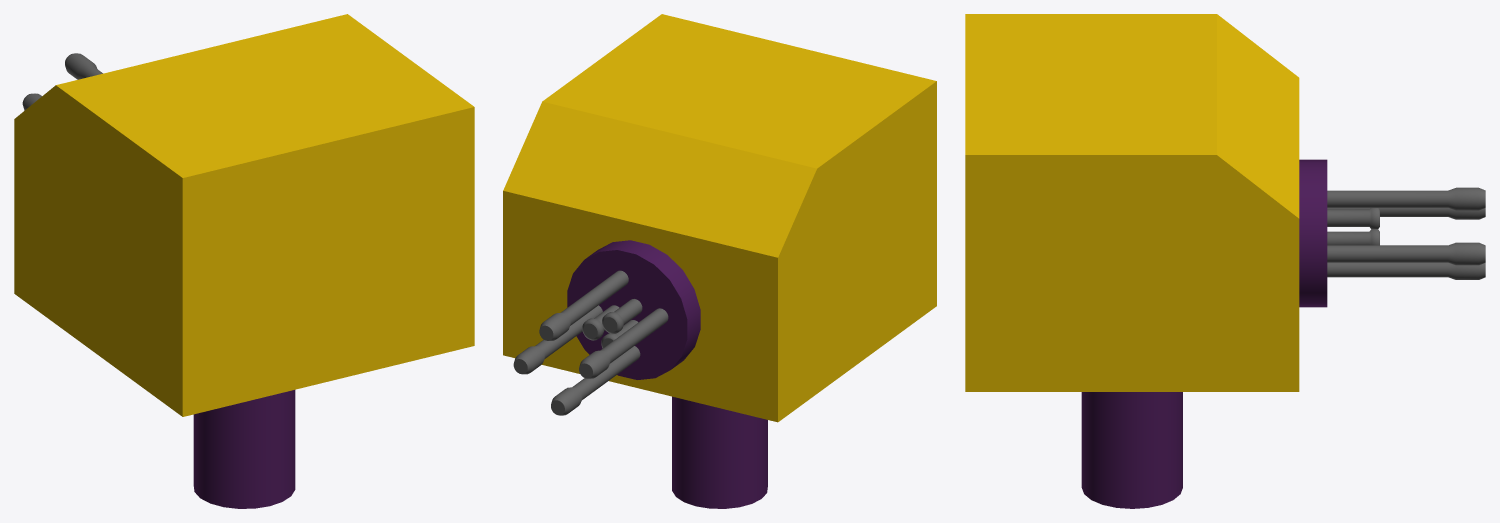
File: Cannon1.fbx
3 views of the same model, side by side, from view 1: azimuth 30°, elevation 25°; view 2: azimuth 150°, elevation 25°; view 3: azimuth 270°, elevation 25° (orthographic). The views are drawn at different scales.
Visible parts, largest first — view 1: pCube7, pCylinder18, pCylinder20; view 2: pCube7, pCylinder19, pCylinder18, pCylinder22, pCylinder20, pCylinder21, pCylinder23, pCylinder25, pCylinder24; view 3: pCube7, pCylinder18, pCylinder19, pCylinder20, pCylinder23, pCylinder21, pCylinder22, pCylinder25, pCylinder24.
Part boxes in pixels (x1=…): pCube7: x1=14, y1=14, x2=474, y2=416; pCylinder18: x1=193, y1=390, x2=295, y2=508; pCylinder20: x1=65, y1=53, x2=102, y2=79; pCube7: x1=503, y1=14, x2=936, y2=422; pCylinder19: x1=567, y1=240, x2=700, y2=379; pCylinder18: x1=672, y1=396, x2=767, y2=508; pCylinder22: x1=579, y1=308, x2=668, y2=378; pCylinder20: x1=539, y1=270, x2=628, y2=340; pCylinder21: x1=551, y1=346, x2=640, y2=415; pCylinder23: x1=513, y1=305, x2=602, y2=374; pCylinder25: x1=602, y1=299, x2=642, y2=333; pCylinder24: x1=582, y1=305, x2=619, y2=340; pCube7: x1=965, y1=14, x2=1299, y2=391; pCylinder18: x1=1081, y1=392, x2=1182, y2=508; pCylinder19: x1=1299, y1=159, x2=1327, y2=307; pCylinder20: x1=1327, y1=187, x2=1485, y2=210; pCylinder23: x1=1327, y1=242, x2=1485, y2=265; pCylinder21: x1=1327, y1=262, x2=1485, y2=279; pCylinder22: x1=1327, y1=208, x2=1485, y2=219; pCylinder25: x1=1327, y1=208, x2=1379, y2=228; pCylinder24: x1=1327, y1=229, x2=1379, y2=245.
Size of the model in its own units: 0.5757 by 0.7666 by 0.8968.
